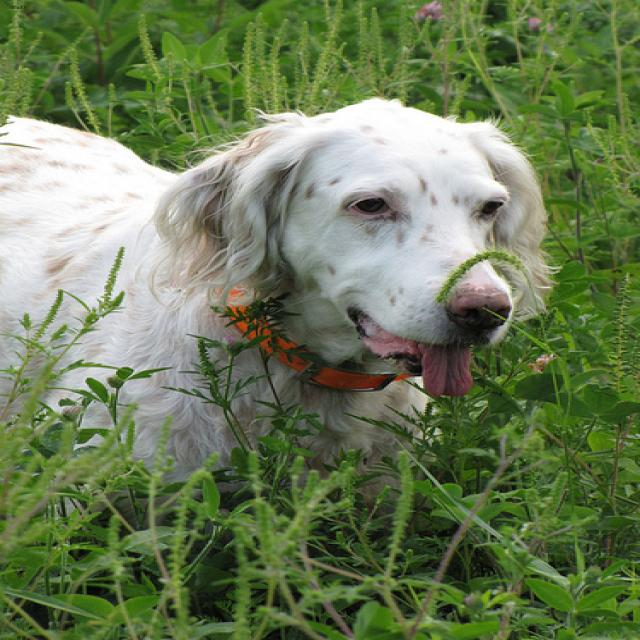dog-english_setter: (2, 86, 567, 536)
